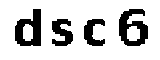6: (115, 4, 152, 54)
c: (81, 16, 108, 53)
d: (11, 6, 47, 51)
s: (49, 15, 77, 50)
